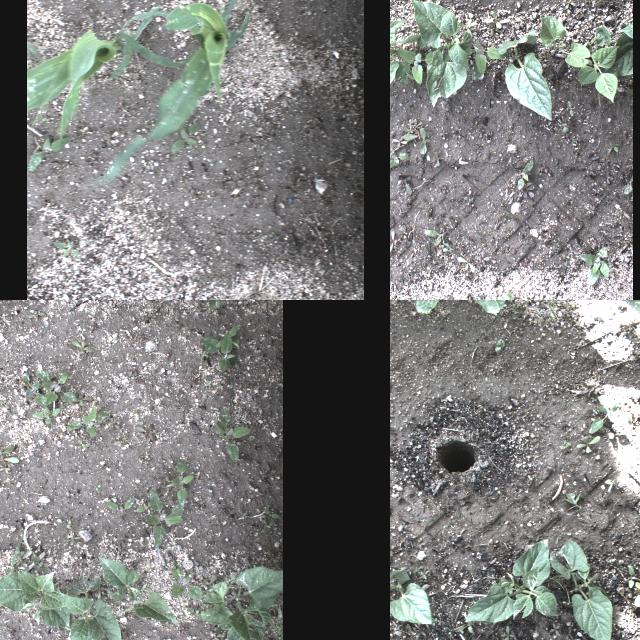crop: (83, 0, 262, 188), (26, 7, 198, 137), (464, 538, 558, 622), (548, 537, 612, 640), (200, 565, 282, 640), (408, 0, 467, 104), (98, 556, 180, 622), (498, 27, 552, 119), (0, 567, 68, 629), (64, 573, 123, 640), (577, 22, 619, 104), (538, 14, 590, 68), (390, 557, 430, 624), (466, 28, 506, 78), (397, 33, 433, 86), (602, 22, 632, 76), (390, 46, 398, 96), (475, 300, 505, 313), (413, 300, 440, 313), (26, 42, 42, 62), (624, 300, 640, 317)
weed: (212, 405, 252, 463), (148, 488, 182, 548), (588, 394, 632, 432), (65, 404, 111, 440), (27, 136, 69, 170), (36, 368, 78, 402), (204, 333, 236, 371), (579, 244, 609, 284), (167, 458, 193, 504), (172, 566, 200, 600), (170, 121, 200, 152), (18, 372, 44, 406), (402, 127, 432, 153), (426, 228, 452, 252), (516, 158, 534, 192), (104, 496, 136, 514), (484, 10, 511, 28), (216, 326, 238, 348), (576, 434, 600, 454), (562, 490, 584, 510), (54, 240, 80, 256), (34, 407, 60, 423), (11, 551, 33, 569), (390, 147, 409, 167), (135, 423, 155, 441), (456, 614, 474, 634), (500, 290, 535, 300), (456, 255, 476, 272), (70, 340, 94, 354), (200, 574, 218, 592), (30, 556, 48, 570), (626, 563, 636, 587), (499, 625, 514, 640), (398, 177, 412, 193), (460, 20, 476, 34), (106, 416, 120, 432), (633, 574, 640, 605), (392, 137, 408, 149), (0, 445, 14, 458), (0, 455, 18, 465), (624, 172, 632, 194), (263, 518, 275, 532), (494, 338, 506, 352), (112, 434, 128, 444), (66, 535, 82, 545), (265, 506, 281, 516), (76, 394, 92, 404), (604, 478, 614, 494), (27, 310, 46, 318), (126, 364, 136, 378), (187, 608, 200, 618), (624, 78, 632, 94), (76, 438, 86, 450), (137, 501, 149, 511), (609, 142, 619, 152), (390, 227, 394, 252), (0, 463, 10, 473), (564, 0, 575, 9), (0, 398, 11, 407), (566, 100, 572, 116), (209, 633, 222, 640), (561, 121, 569, 132), (408, 120, 422, 126), (402, 124, 412, 132), (276, 345, 282, 357), (204, 379, 212, 387), (200, 350, 208, 358), (140, 456, 150, 462), (95, 482, 102, 490), (560, 82, 568, 88), (622, 210, 628, 217), (240, 509, 246, 516), (66, 518, 70, 528), (438, 297, 445, 300), (41, 118, 49, 120)
